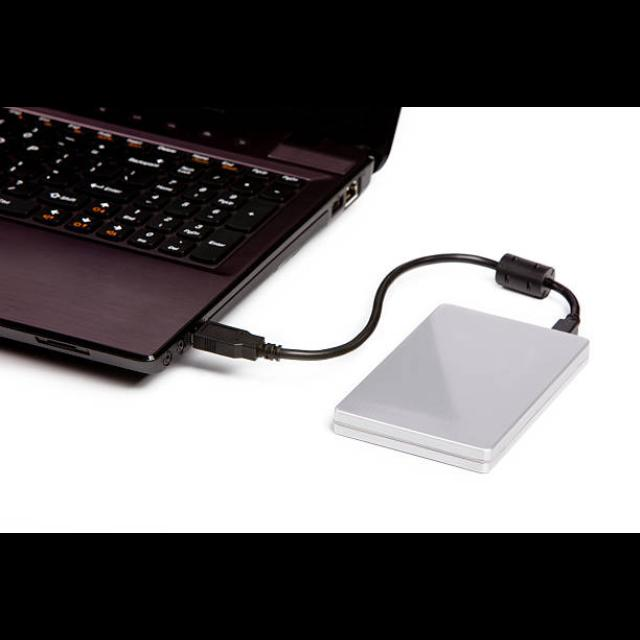HDD: (328, 304, 592, 477)
